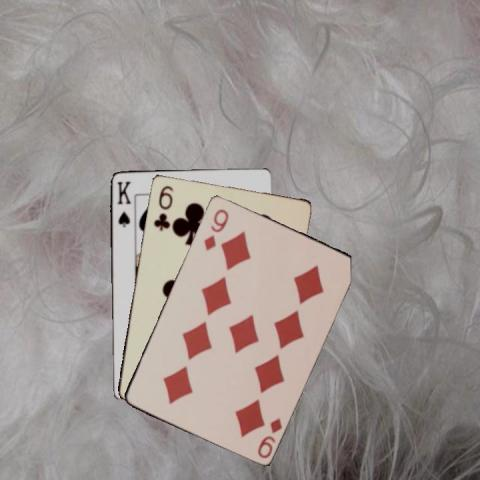6c: (150, 182, 175, 232)
9d: (201, 206, 230, 252), (254, 414, 283, 460)
Ks: (114, 177, 132, 229)
